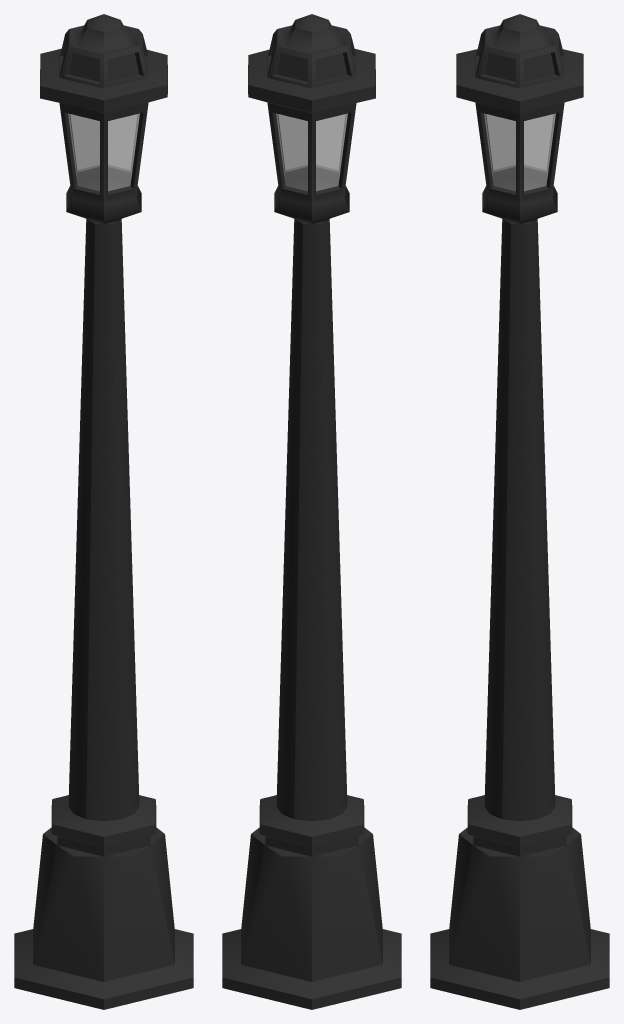
File: poste.fbx
The picture shows the model from 3 angles, left to right: view 1: azimuth 30°, elevation 25°; view 2: azimuth 150°, elevation 25°; view 3: azimuth 270°, elevation 25°; orthographic projection.
Parts seen in each view (by area): view 1: poste1; view 2: poste1; view 3: poste1.
Part boxes in pixels (box(x1,y1,x2,y2)): poste1: box(14, 14, 193, 1009); poste1: box(222, 14, 401, 1009); poste1: box(430, 14, 609, 1009).
Size of the model in its own units: 1.99 by 10.12 by 1.73.
Materials: 2 (1 with a texture image).
